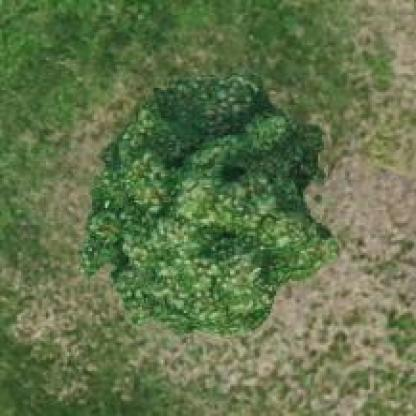Deciduous Tree: (61, 65, 360, 329)
